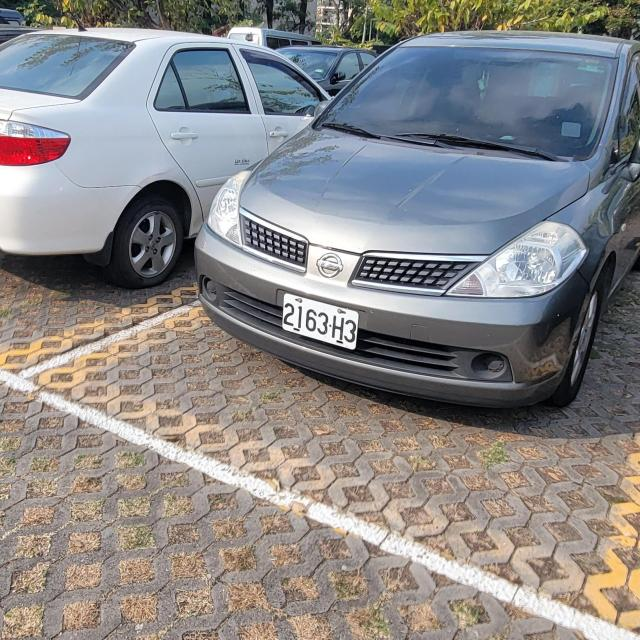W: (281, 293, 358, 349)
